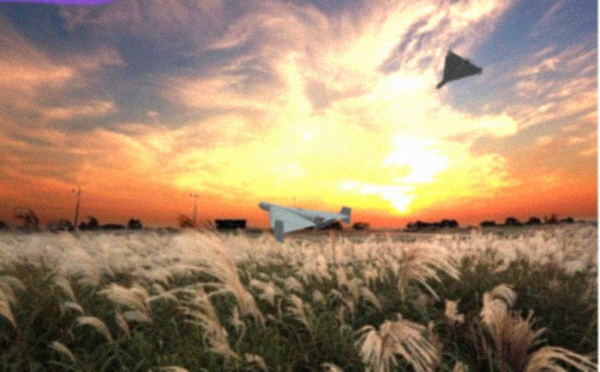shahed: (253, 197, 354, 245), (433, 47, 486, 92)
